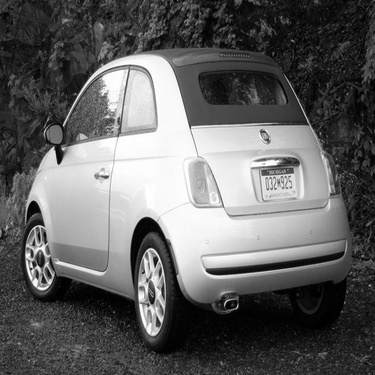car: (6, 39, 350, 354)
